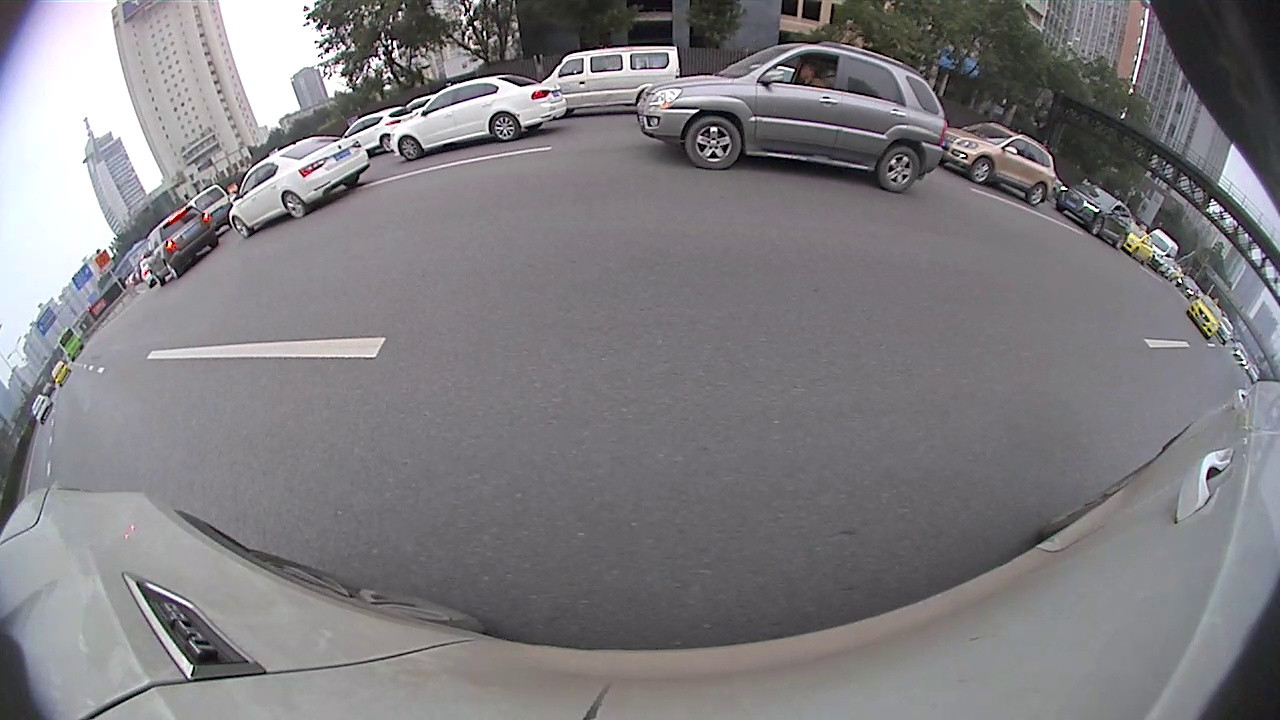car: (636, 42, 948, 193), (390, 74, 568, 163), (227, 135, 372, 239), (936, 121, 1055, 209), (541, 45, 680, 120), (144, 205, 220, 288), (1056, 183, 1133, 252), (337, 106, 420, 155), (1185, 294, 1222, 341), (1118, 224, 1155, 268)
front: (687, 120, 740, 167), (399, 138, 421, 161), (972, 160, 992, 183), (232, 217, 250, 238), (1091, 220, 1104, 235)
rear: (877, 148, 921, 191), (491, 116, 518, 141), (285, 193, 304, 218), (1026, 185, 1047, 205), (381, 134, 393, 152), (1114, 235, 1127, 249)
